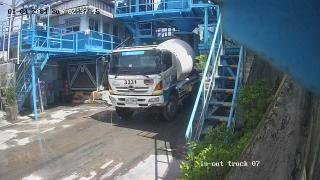cement_mixer_truck: (104, 35, 199, 122)
